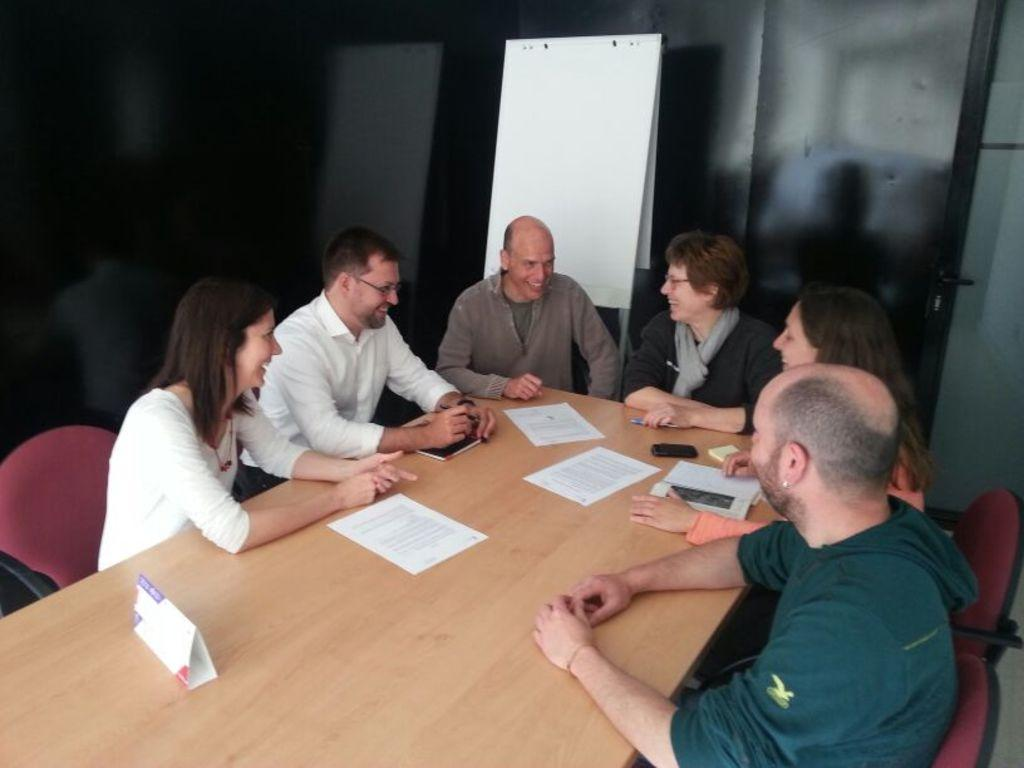Sem Máscara: (744, 382, 780, 517), (237, 308, 279, 387), (348, 255, 395, 324), (507, 231, 555, 291), (658, 263, 709, 316), (769, 297, 807, 362)
